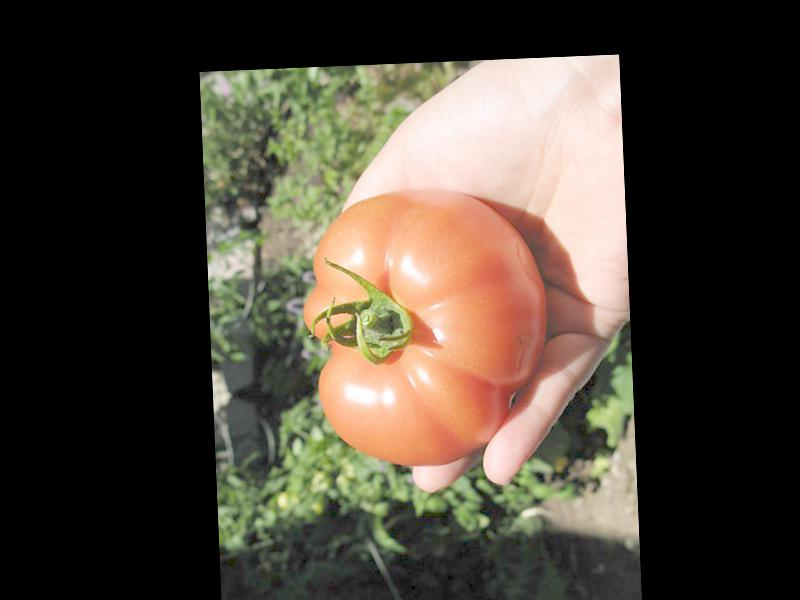Tomato: (299, 187, 549, 471)
